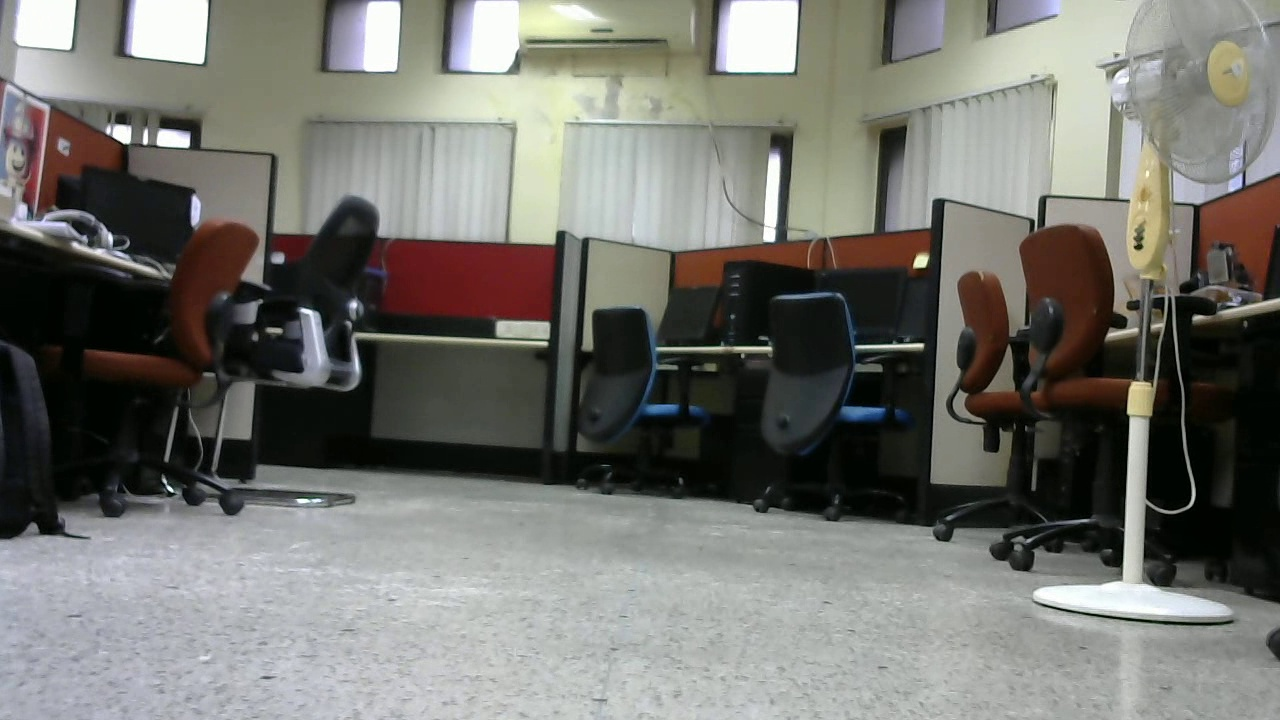chair: (1015, 223, 1178, 584), (81, 220, 238, 512), (247, 189, 388, 508), (743, 291, 909, 522), (938, 276, 1066, 546), (557, 302, 708, 498)
